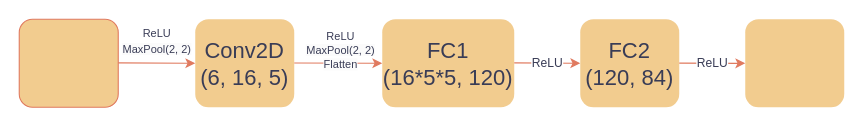
Some shapes in this 864 by 127 pixel diagram are drawn without their labels. The centre of each missing label's shape, as x and y in pixels:
Conv2D (3, 6, 5): (x=68, y=62)
FC3 (84, 10): (x=794, y=63)
